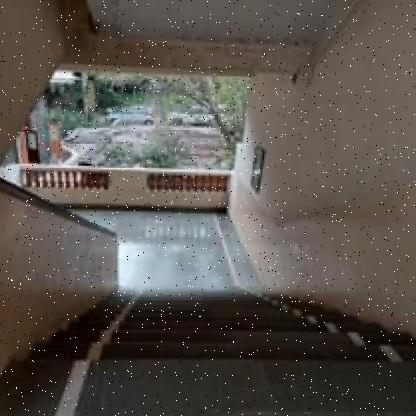stair_down: (83, 275, 348, 388)
